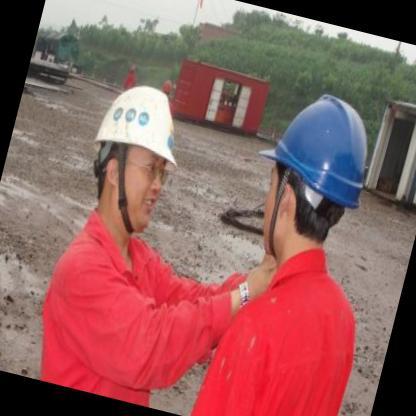helmet: (231, 62, 402, 278), (66, 56, 208, 244)
